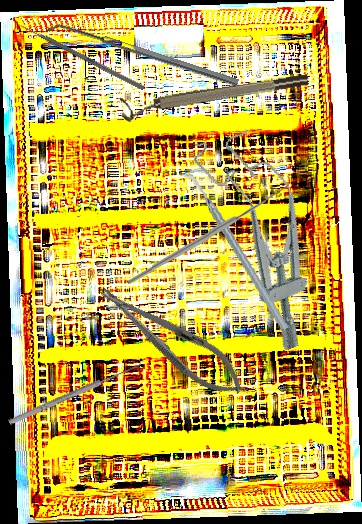Chopper: (177, 161, 291, 341)
Fixation Ring: (119, 70, 311, 123)
Hook Surgical: (126, 176, 291, 284), (5, 355, 144, 427)
Needle Holder: (90, 272, 254, 408)
Pusher: (9, 18, 146, 91)
Spatula Surgical: (46, 18, 239, 94)
Speculum: (189, 118, 344, 357)
